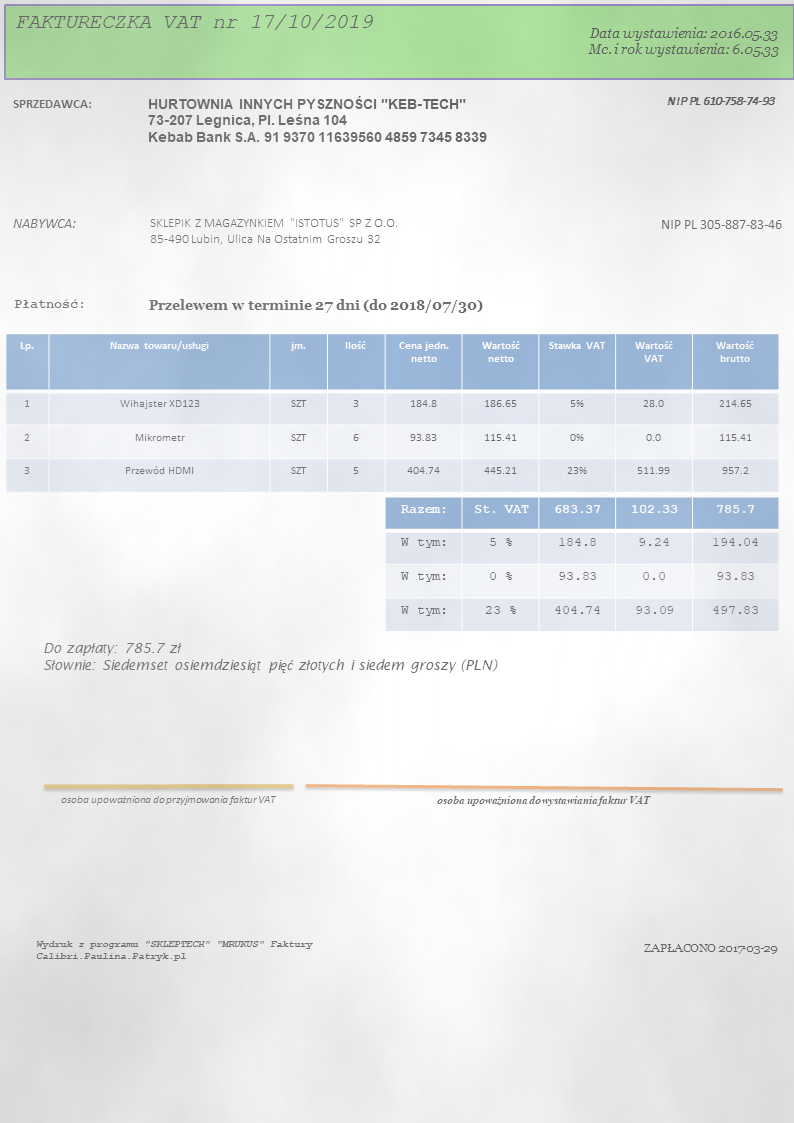Table: (4, 331, 780, 494), (383, 496, 781, 633)
TextBox: (145, 93, 490, 147), (40, 637, 500, 674), (147, 214, 400, 248), (13, 11, 375, 34), (34, 937, 316, 963), (585, 24, 781, 61), (146, 295, 483, 314), (59, 792, 279, 809), (434, 792, 652, 808), (640, 940, 778, 957), (657, 215, 784, 233), (665, 92, 778, 109), (10, 95, 94, 111), (11, 295, 86, 311), (11, 214, 77, 230)
